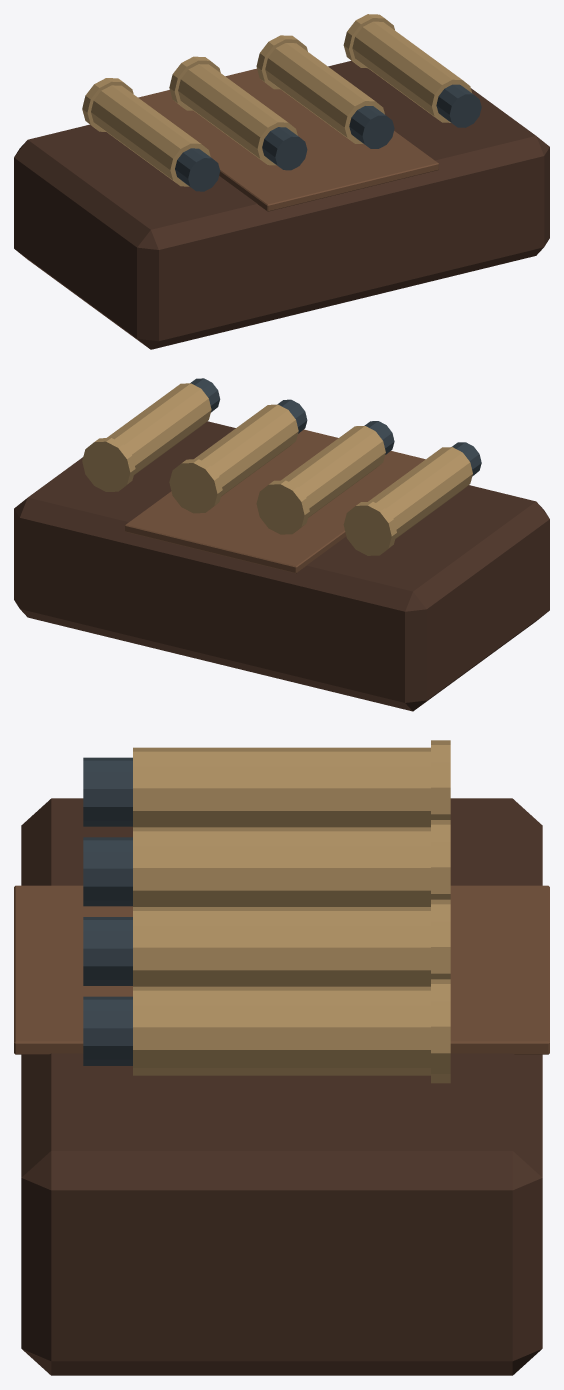
File: valley_ammo_box.glb
3 views of the same model, one above another, from view 1: azimuth 30°, elevation 25°; view 2: azimuth 150°, elevation 25°; view 3: azimuth 270°, elevation 25° (orthographic). The views are drawn at different scales.
Parts seen in each view (by area): view 1: AmmoCarton, CartonBand, BrassCase_1, BrassCase_0, BrassCase_3, BrassCase_2, SoftPoint_3, SoftPoint_0, SoftPoint_1, SoftPoint_2, CaseBase_1, CaseBase_2 (+2 smaller); view 2: AmmoCarton, CartonBand, BrassCase_2, BrassCase_3, BrassCase_1, BrassCase_0, CaseBase_1, CaseBase_2, CaseBase_0, CaseBase_3, SoftPoint_0, SoftPoint_3 (+2 smaller); view 3: AmmoCarton, CartonBand, BrassCase_3, BrassCase_0, BrassCase_1, BrassCase_2, SoftPoint_0, SoftPoint_1, SoftPoint_3, SoftPoint_2, CaseBase_3, CaseBase_2 (+2 smaller).
Boxes of the visible parts, x1,y1,x2,y2 form: AmmoCarton: (14,60,549,349); CartonBand: (138,68,438,211); BrassCase_1: (178,64,297,165); BrassCase_0: (91,85,210,186); BrassCase_3: (352,21,471,122); BrassCase_2: (265,43,384,143); SoftPoint_3: (436,84,481,127); SoftPoint_0: (175,148,220,191); SoftPoint_1: (262,127,307,170); SoftPoint_2: (349,106,394,148); CaseBase_1: (169,56,220,110); CaseBase_2: (256,35,307,89); AmmoCarton: (14,421,549,711); CartonBand: (125,429,425,573); BrassCase_2: (194,404,298,496); BrassCase_3: (107,383,211,474); BrassCase_1: (281,426,385,517); BrassCase_0: (368,447,472,538); CaseBase_1: (256,480,309,534); CaseBase_2: (169,459,222,513); CaseBase_0: (343,501,396,555); CaseBase_3: (82,438,135,491); SoftPoint_0: (452,442,481,476); SoftPoint_3: (190,378,220,412); AmmoCarton: (21,798,542,1375); CartonBand: (14,885,549,1054); BrassCase_3: (133,986,430,1075); BrassCase_0: (133,747,430,827); BrassCase_1: (133,827,430,906); BrassCase_2: (133,907,430,986); SoftPoint_0: (83,757,132,826); SoftPoint_1: (83,837,132,906); SoftPoint_3: (83,996,132,1065); SoftPoint_2: (83,917,132,985); CaseBase_3: (431,979,450,1083); CaseBase_2: (431,899,450,979).
Size of the model in its own units: 0.18 by 0.0745 by 0.108.
